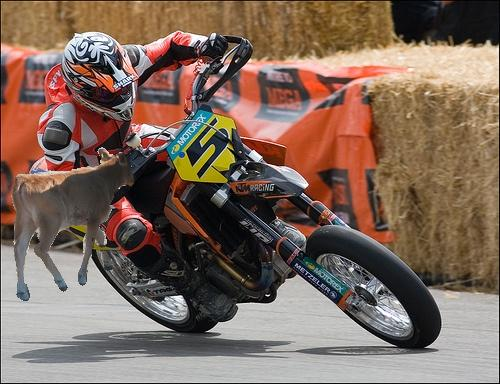tampered: (12, 148, 135, 301)
